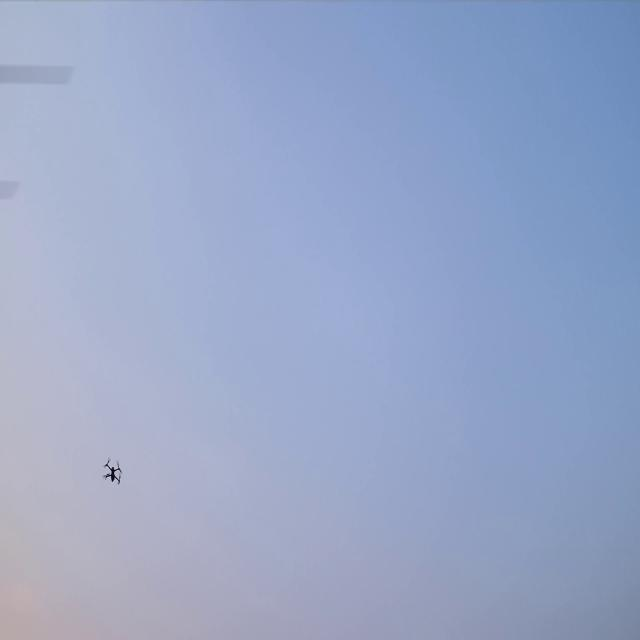UAV: (101, 456, 123, 486)
